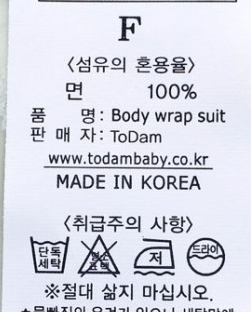KR_dry_clean: (185, 233, 227, 279)
KR_no_chlorine_bleach: (75, 233, 124, 280)
